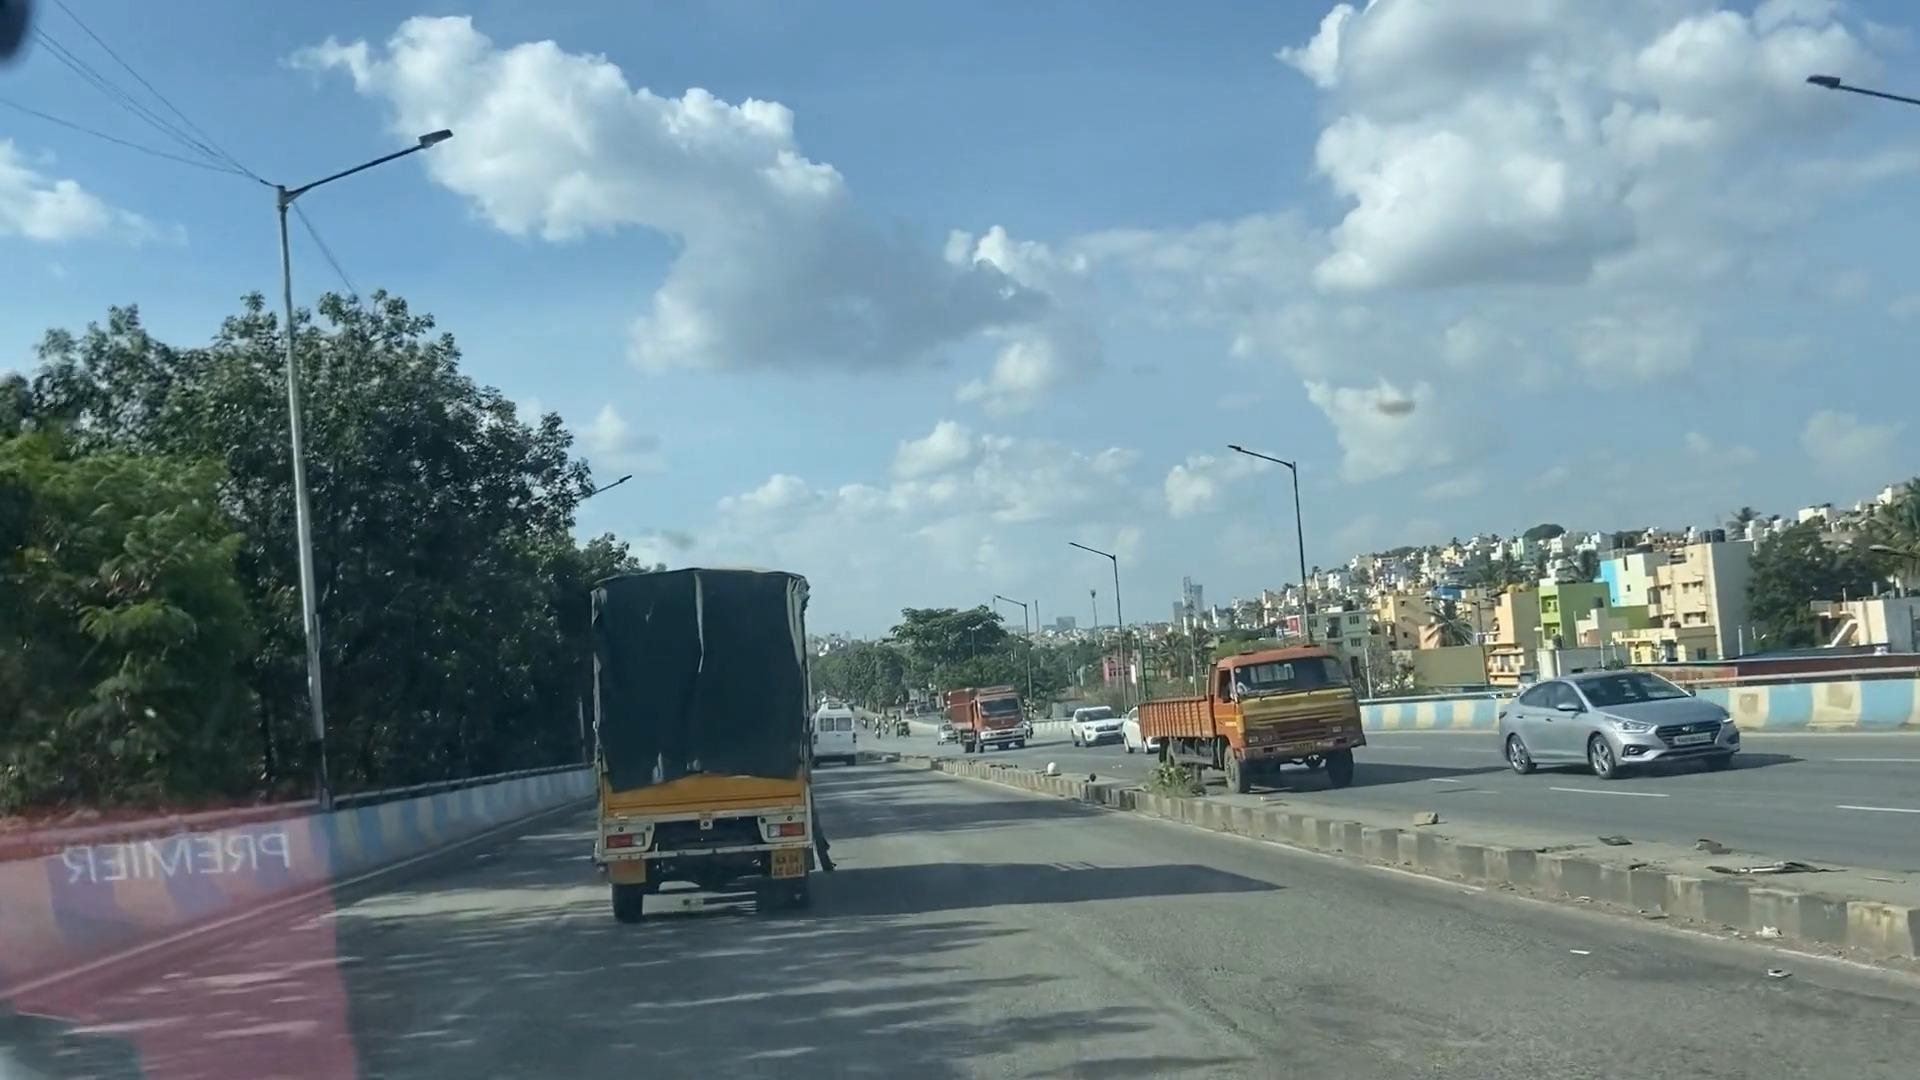HMV: (572, 550, 843, 916)
